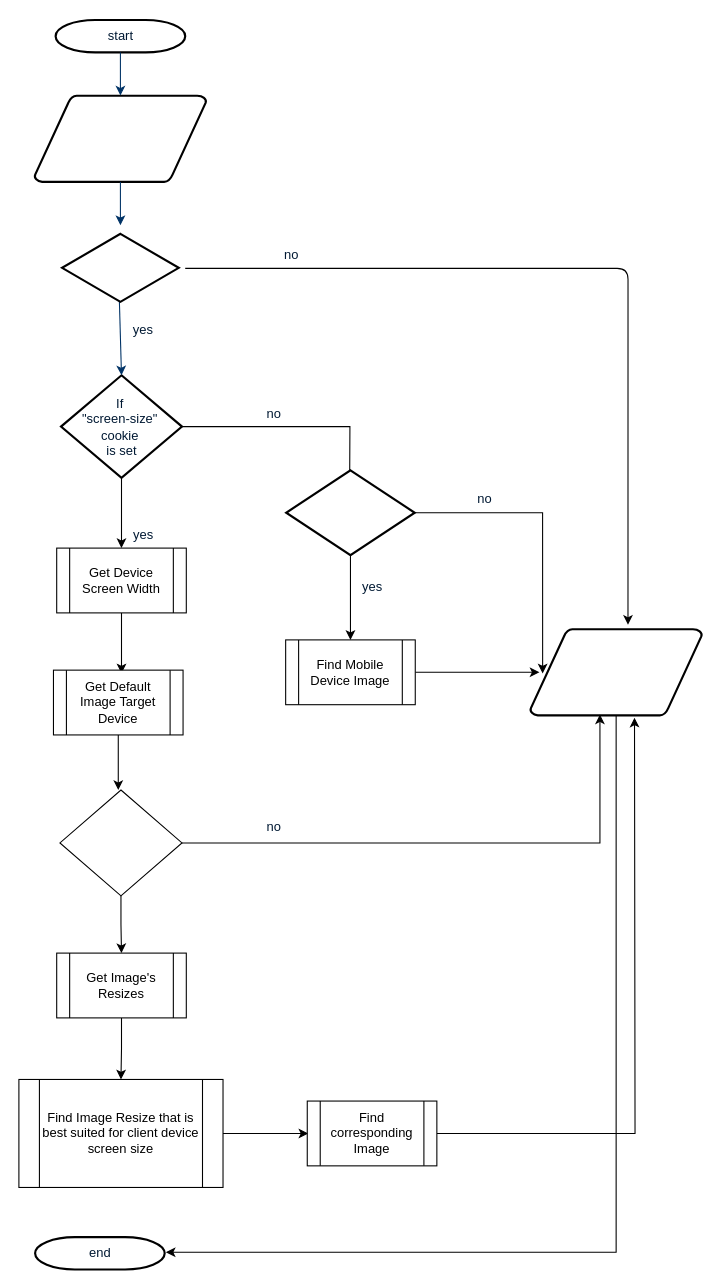
Some shapes in this 721 by 1288 pixel diagram are drawn without their labels. The centre of each missing label's shape, as x and y in pixels:
"E xists in DB?" belongs at pixel 119 267.
"If device is Mobile" belongs at pixel 350 512.
"If Image has Resizes" belongs at pixel 120 842.
"Image Access via Web Request" belongs at pixel 120 138.
"Serve the Image File" belongs at pixel 616 671.
